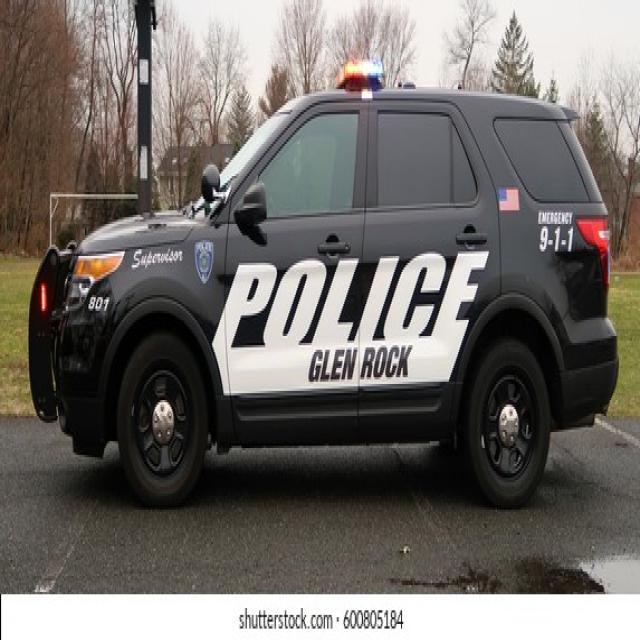cop: (30, 58, 620, 512)
